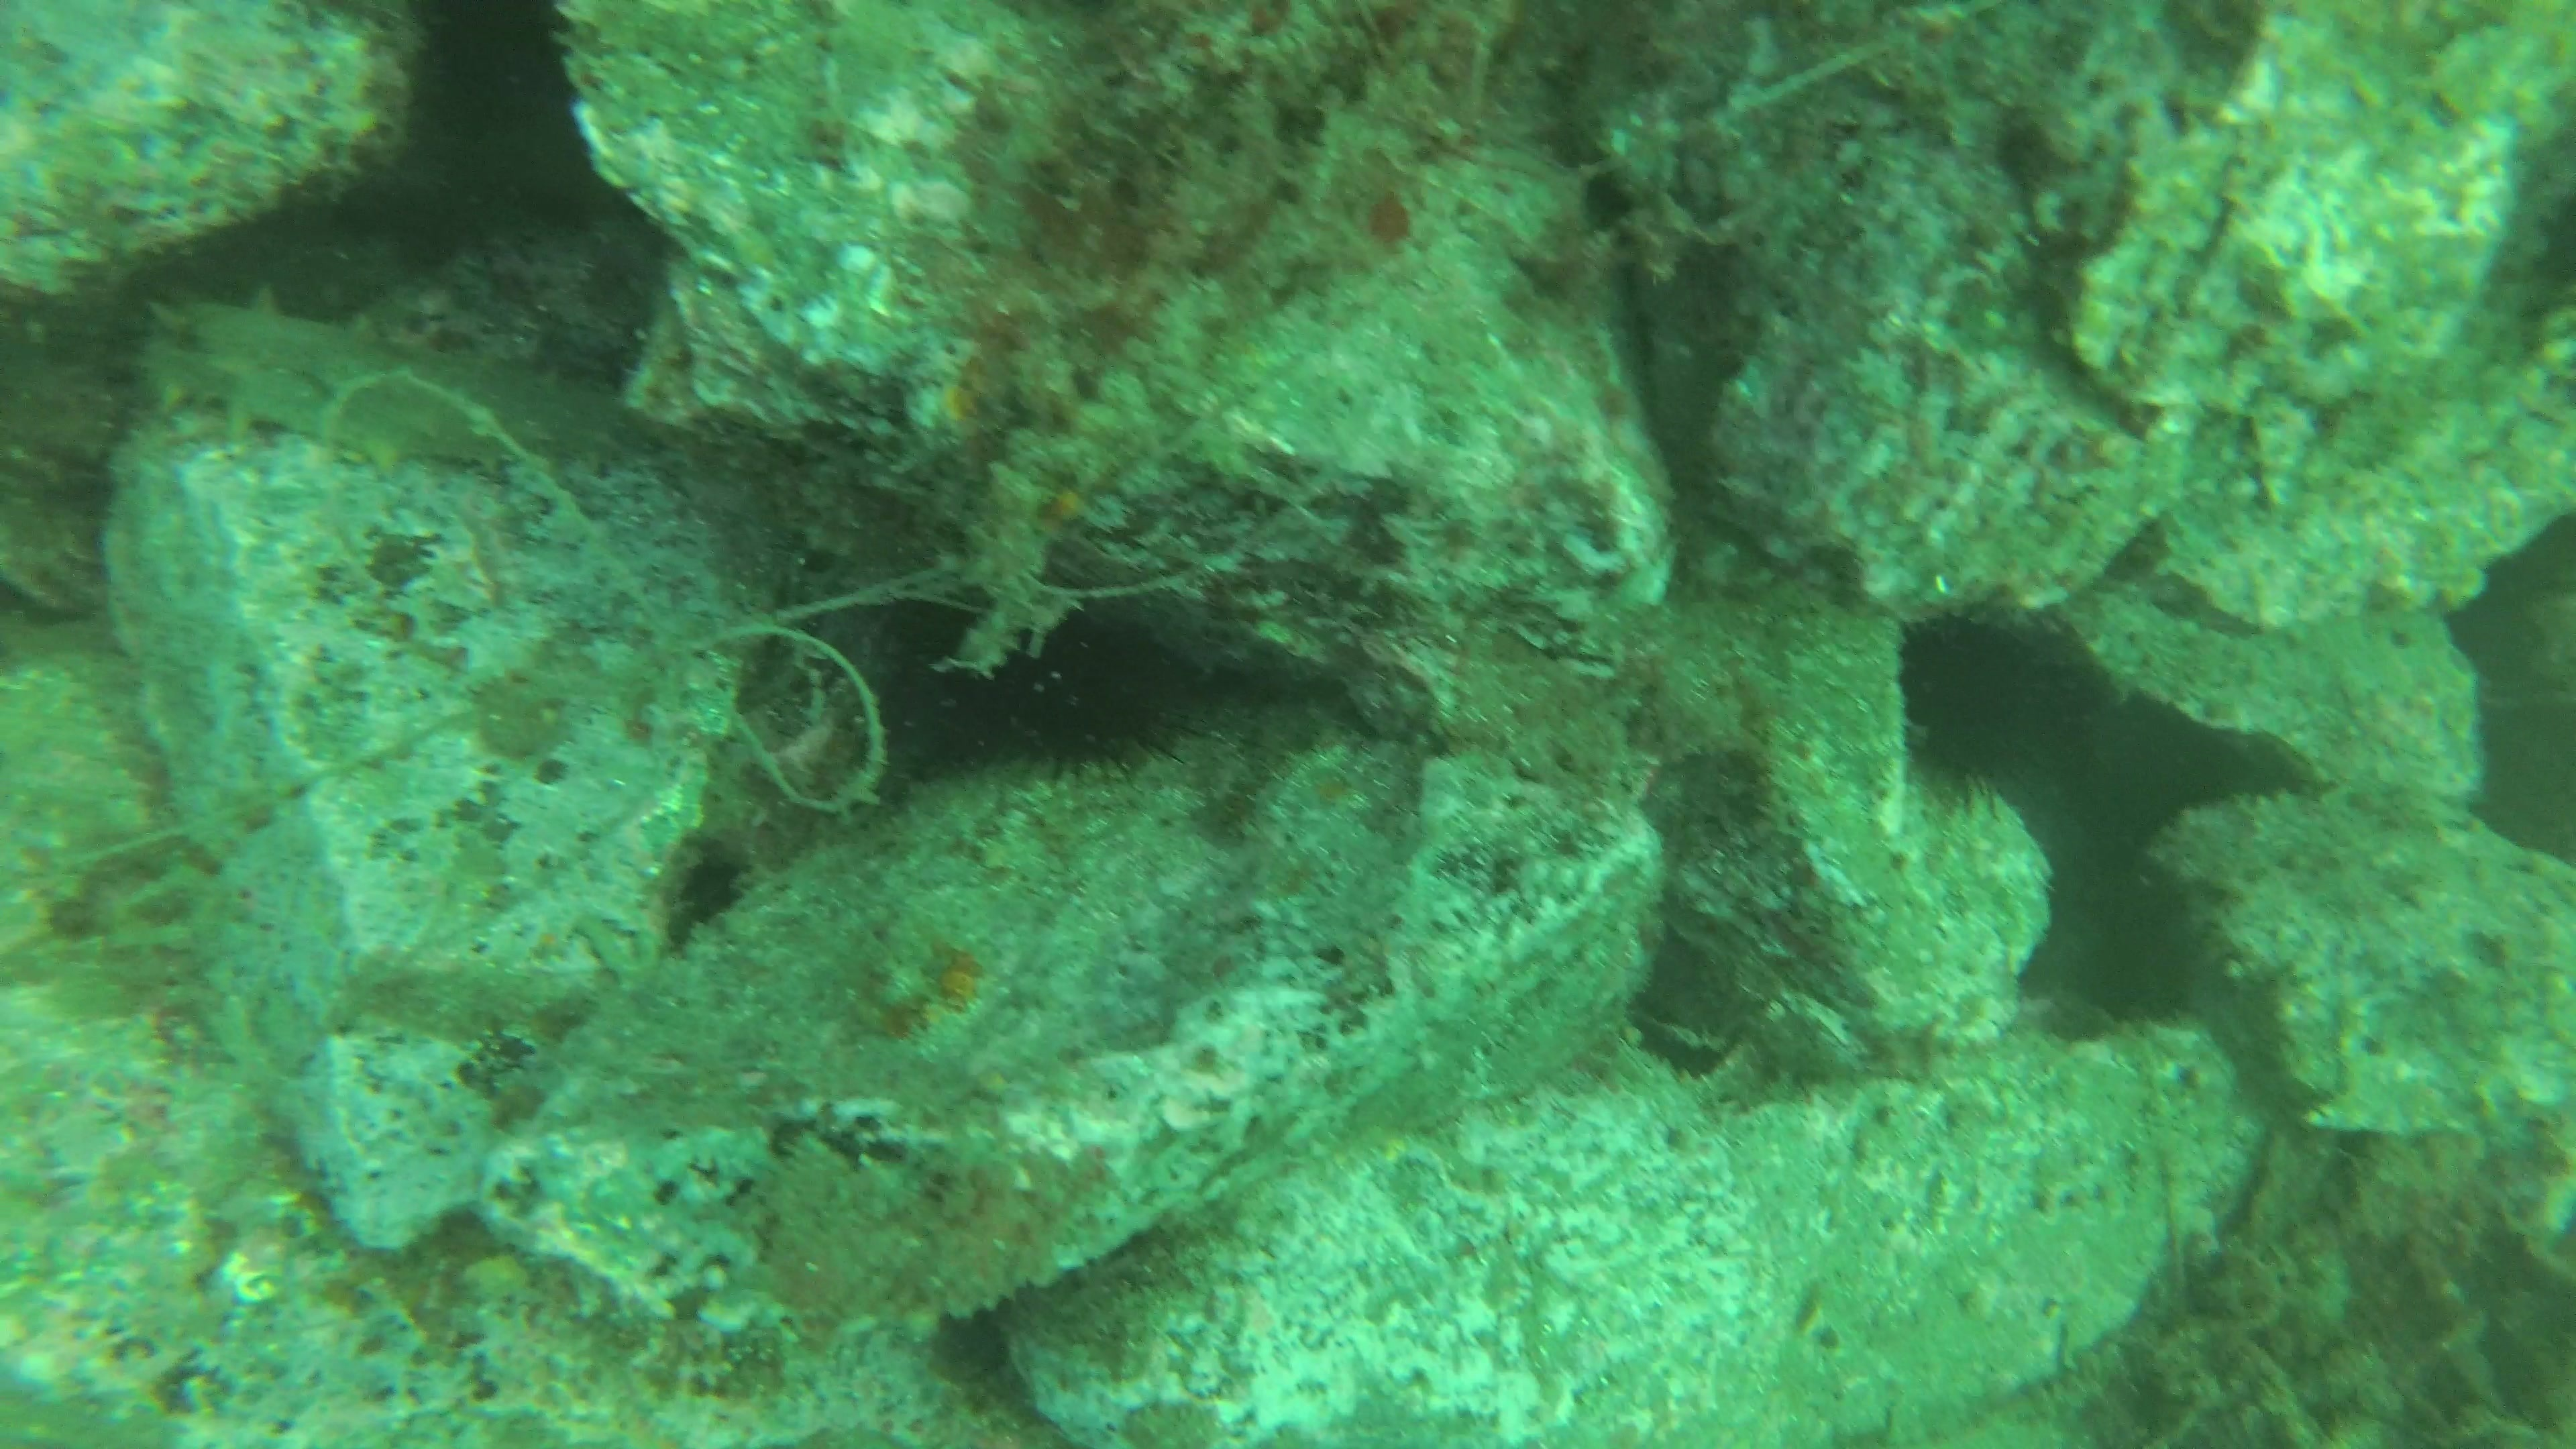echinus: (1882, 586, 2107, 801), (952, 609, 1196, 784)
holothurian: (124, 276, 648, 485)
